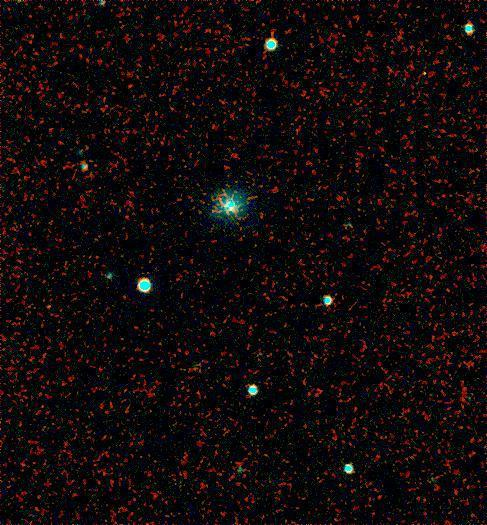star: (34, 294, 64, 324)
